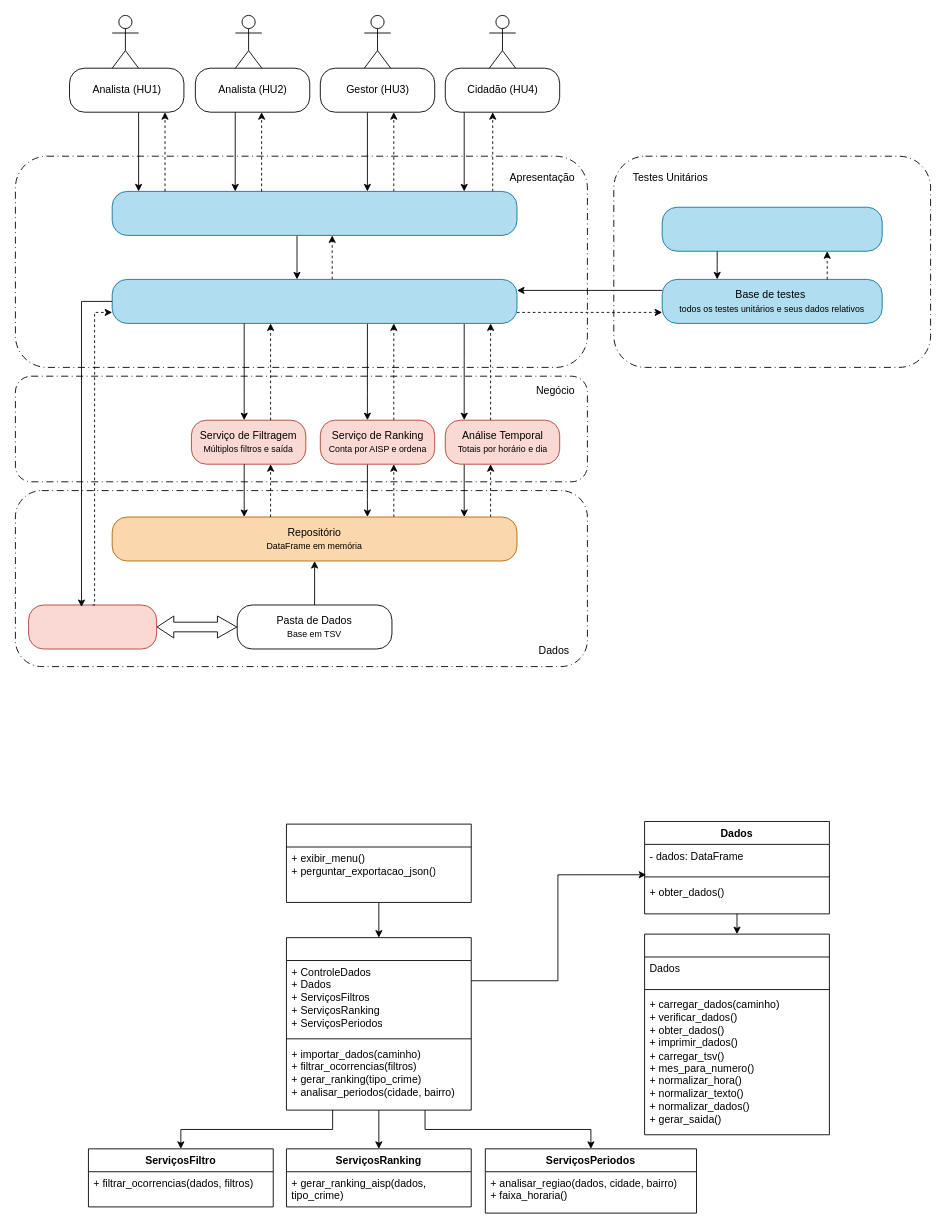
This 946x1231 diagram has some shape labels left out. Each missing label, with the box of its shape:
Controlador: (286, 937, 471, 1110)
Controlador Encaminha cada pedido (interfaces de acesso): (111, 279, 517, 323)
ControleDados: (644, 933, 829, 1135)
Execução de testes organiza e executa os testes unitários: (661, 206, 882, 251)
Serviço carregar dados e processamento de entrada: (28, 604, 157, 649)
Terminal: (286, 823, 471, 902)
Terminal menu e impressão: (111, 191, 517, 235)
